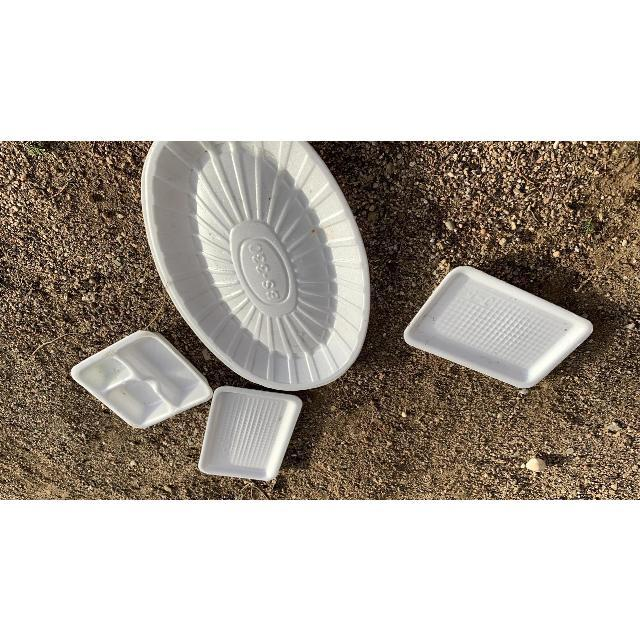Plastico descartable: (140, 141, 372, 396), (402, 267, 594, 393), (69, 331, 213, 432), (198, 387, 303, 484)
